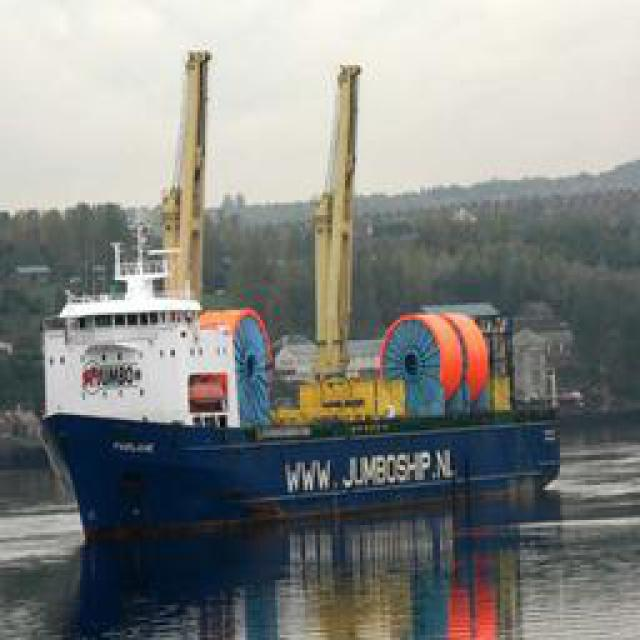Ship: (52, 11, 595, 569)
